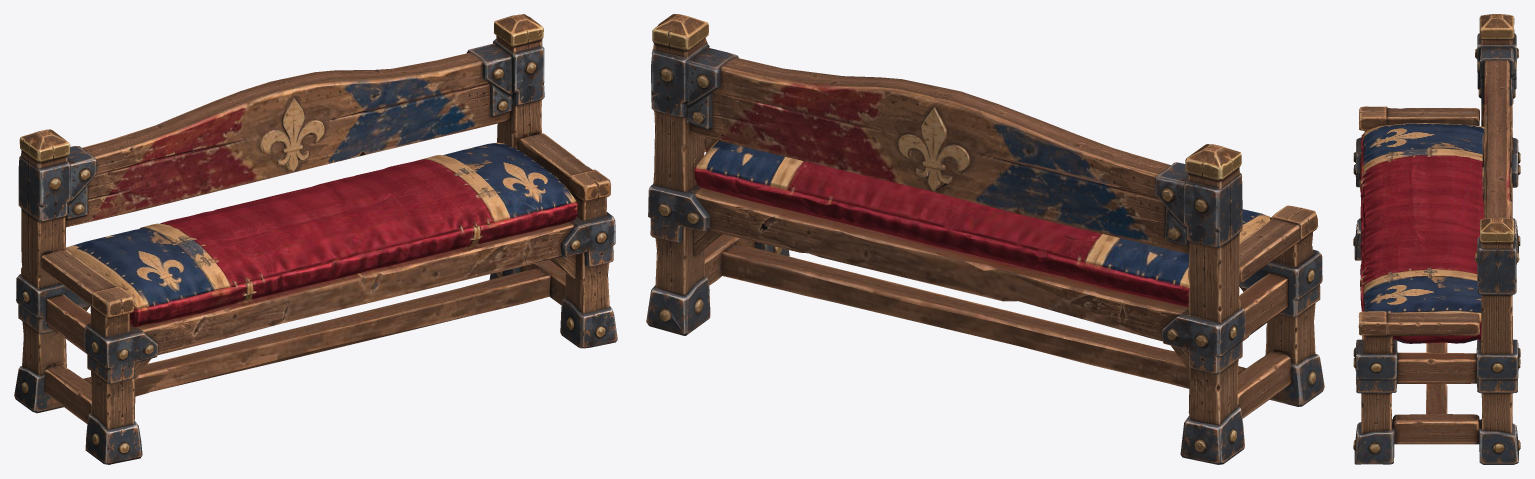
Rendered from bench.glb.
3 views of the same model, side by side, from view 1: azimuth 30°, elevation 25°; view 2: azimuth 150°, elevation 25°; view 3: azimuth 270°, elevation 25° (orthographic). The views are drawn at different scales.
Parts seen in each view (by area): view 1: output_unwrapped; view 2: output_unwrapped; view 3: output_unwrapped.
Part boxes in pixels (x1=…): output_unwrapped: x1=14, y1=14, x2=617, y2=464; output_unwrapped: x1=646, y1=14, x2=1324, y2=464; output_unwrapped: x1=1353, y1=14, x2=1520, y2=464.
Size of the model in its own units: 1.9 by 0.9546 by 0.6097.
Materials: 1 (1 with a texture image).
